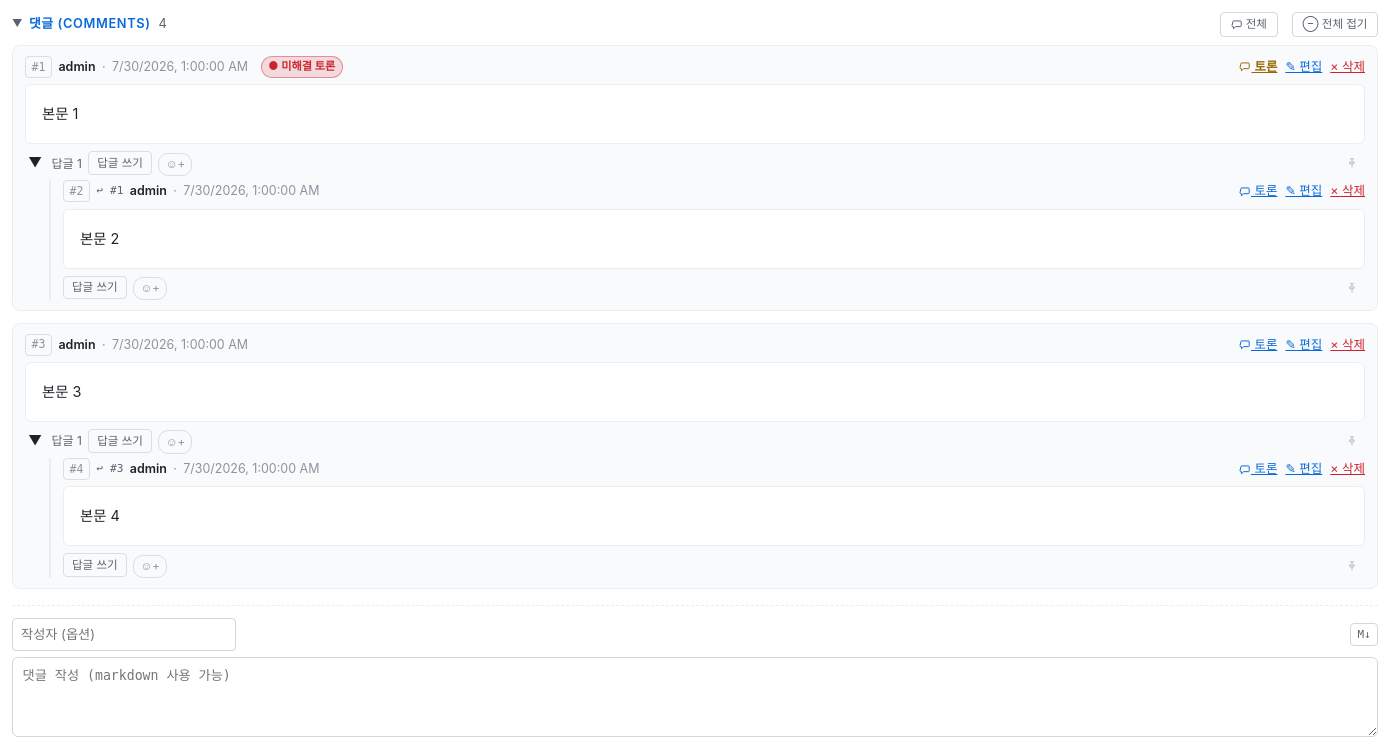
Scenario: QuestCommentsSection — 토론만 + 전체 접기 (BUG-178) › '토론만' 을 켜기 전에 접어둔 상태가 필터를 켜도 유지된다
Click the button with class "collapse-all-btn" at (1335, 25), box [1292, 12, 1378, 37]
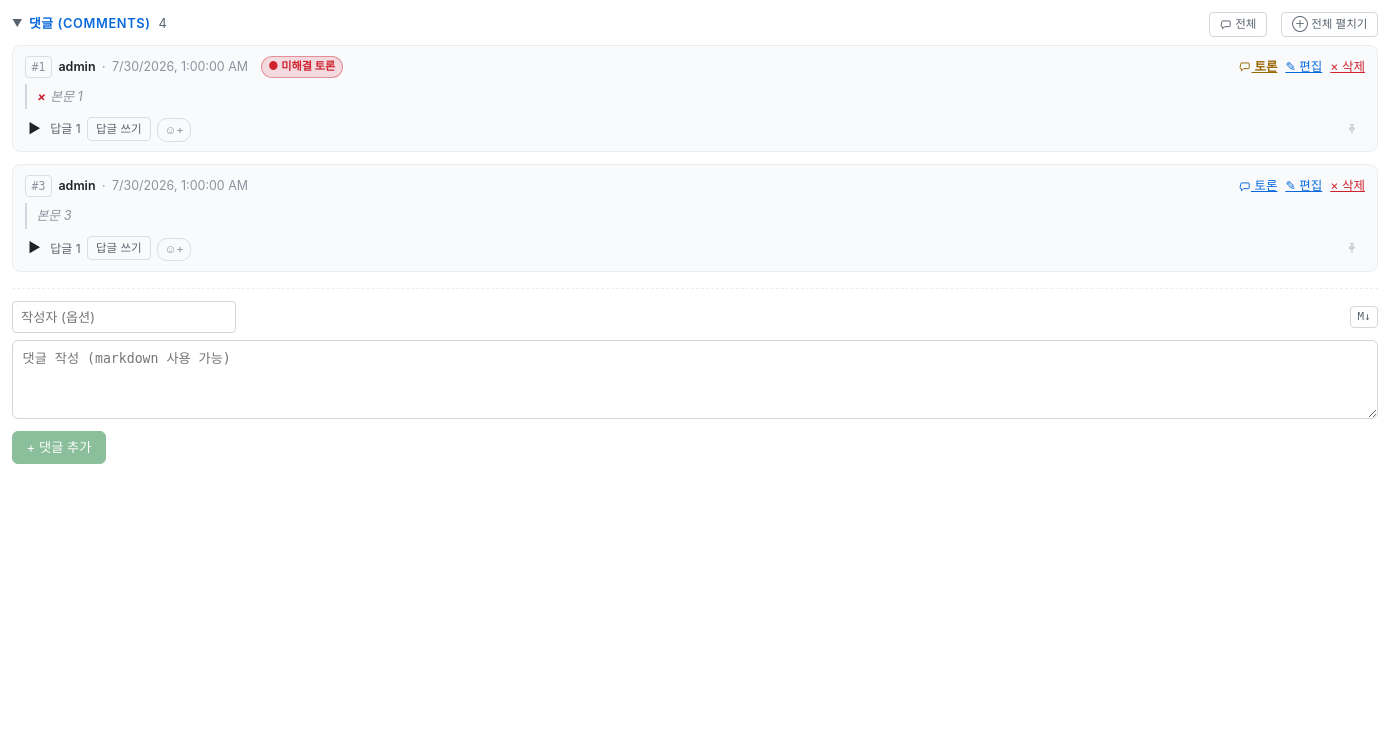
// 필터를 켠다고 접힘이 풀려서는 안 된다 (BUG-178 의 반대 방향).
Click the button with class "disc-filter-btn" at (1238, 25), box [1209, 12, 1267, 37]
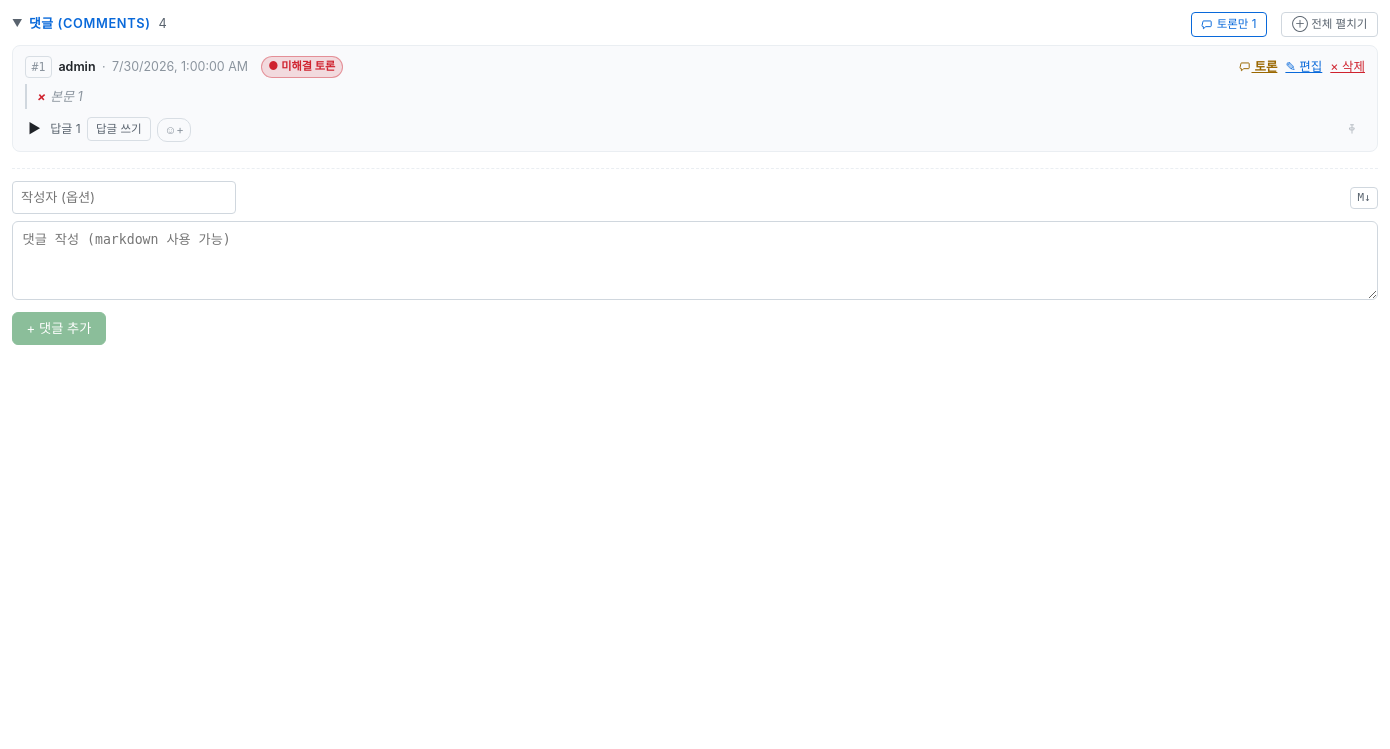
Expected: the number of list items with class "entry-card" is 1, [12, 45, 1378, 152]
